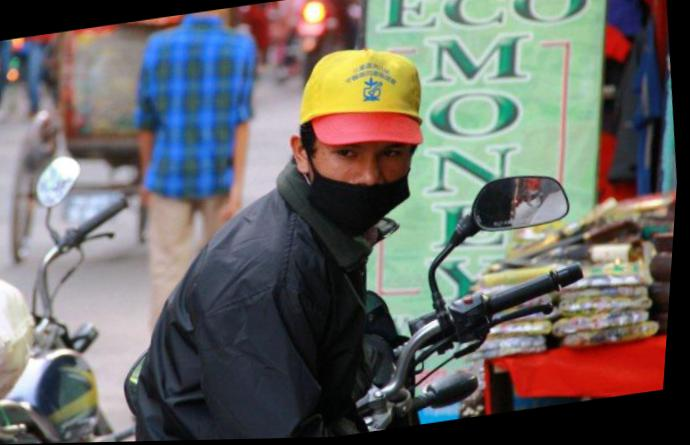WRONG: (301, 128, 421, 244)
